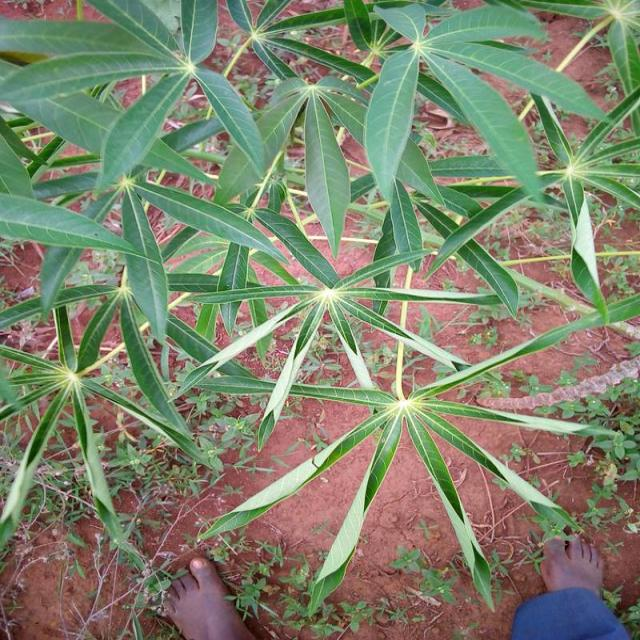cassava leaf: (2, 0, 639, 620)
